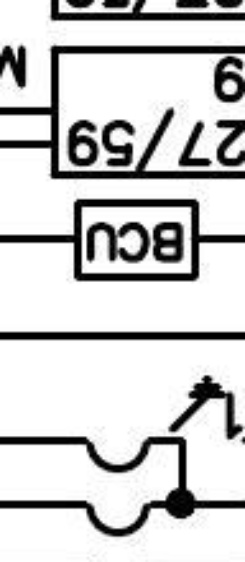BCU: (72, 198, 201, 282)
